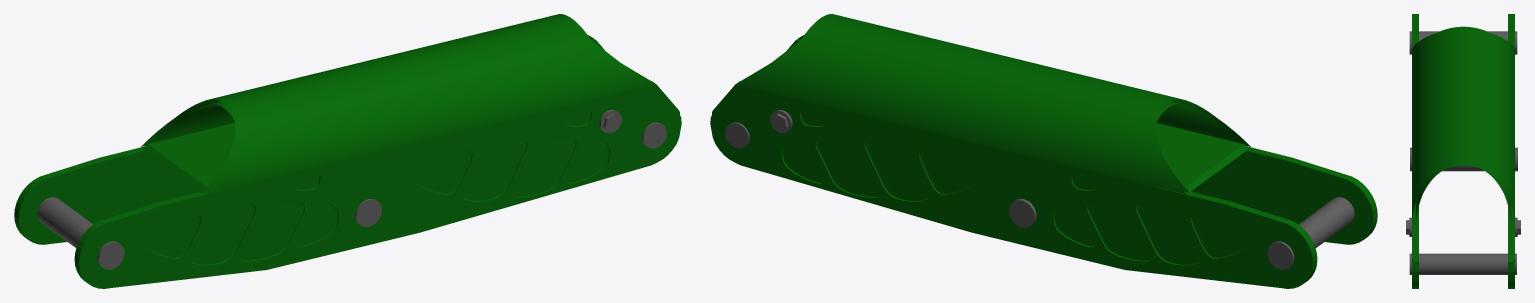
File: UpperArm.obj
The picture shows the model from 3 angles, left to right: view 1: azimuth 30°, elevation 25°; view 2: azimuth 150°, elevation 25°; view 3: azimuth 270°, elevation 25°; orthographic projection. The views are drawn at different scales.
Parts seen in each view (by area): view 1: part_002, part_003, part_000, part_004, part_005, part_007, part_006; view 2: part_002, part_003, part_000, part_004, part_005, part_007, part_006; view 3: part_003, part_007, part_002, part_004, part_005, part_006.
Boxes of the visible parts, left/top/right/bottom form: part_002: left=14, top=37, right=681, bottom=288; part_003: left=141, top=14, right=655, bottom=194; part_000: left=143, top=123, right=235, bottom=192; part_004: left=37, top=197, right=124, bottom=269; part_005: left=355, top=199, right=381, bottom=226; part_007: left=642, top=122, right=666, bottom=148; part_006: left=599, top=109, right=621, bottom=133; part_002: left=710, top=37, right=1377, bottom=288; part_003: left=736, top=14, right=1250, bottom=194; part_000: left=1156, top=123, right=1248, bottom=192; part_004: left=1267, top=197, right=1354, bottom=269; part_005: left=1009, top=199, right=1036, bottom=227; part_007: left=725, top=122, right=749, bottom=148; part_006: left=770, top=109, right=792, bottom=133; part_003: left=1412, top=26, right=1514, bottom=224; part_007: left=1409, top=253, right=1516, bottom=274; part_002: left=1412, top=14, right=1514, bottom=288; part_004: left=1409, top=31, right=1517, bottom=54; part_005: left=1410, top=147, right=1517, bottom=171; part_006: left=1406, top=217, right=1520, bottom=236.
Size of the model in its own units: 0.6168 by 0.1419 by 0.1278.
